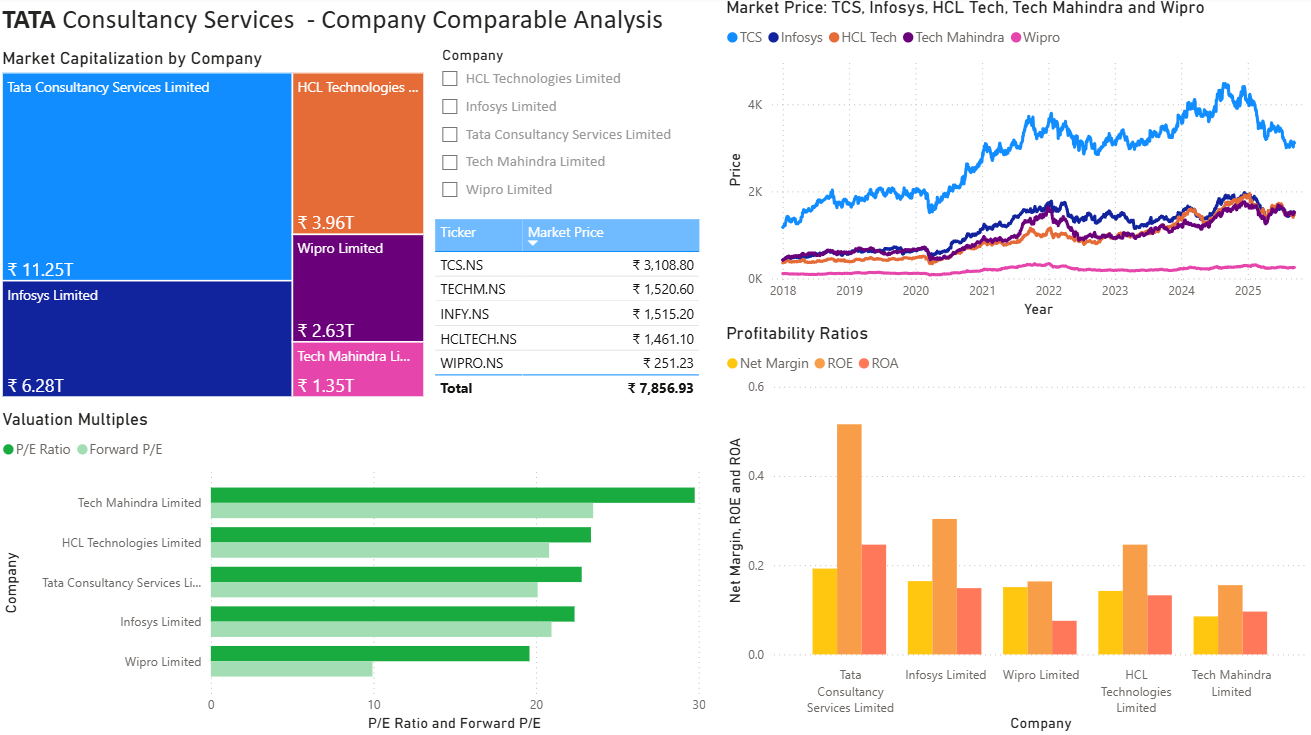

The dashboard page shown, as its layout file describes it:
{"tool":"powerbi","page":{"name":"Company Comparable Analysis","canvas":[1280,720],"ordinal":1},"visuals":[{"type":"treemap","fields":{"Values":["Sum(tcs_peers_valuation.Market Cap)"],"Group":["tcs_peers_valuation.Company"]},"box":[0,49.6,420.2,344.3],"z":0},{"type":"textbox","box":[0,0,694.5,49.6],"z":1000},{"type":"clusteredBarChart","title":"Valuation Multiples","fields":{"Y":["Sum(tcs_peers_valuation.P/E Ratio)","Sum(tcs_peers_valuation.Forward P/E)"],"Category":["tcs_peers_valuation.Company"]},"box":[0,400.7,694.5,319],"z":2000},{"type":"lineClusteredColumnComboChart","title":"Profitability Ratios","fields":{"Category":["tcs_peers_valuation.Company"],"Y":["Sum(tcs_peers_valuation.Net Margin)","Sum(tcs_peers_valuation.ROE)","Sum(tcs_peers_valuation.ROA)"]},"box":[704.2,317.1,575.8,402.7],"z":3000},{"type":"slicer","fields":{"Values":["tcs_peers_valuation.Company"]},"box":[420.2,42.8,274.3,168.3],"z":4001},{"type":"tableEx","fields":{"Values":["tcs_peers_valuation.Ticker","Sum(tcs_peers_valuation.Market Price)"]},"box":[420.2,211.1,284,189.7],"z":4002},{"type":"lineChart","title":"Market Price: TCS, Infosys, HCL Tech, Tech Mahindra and Wipro","fields":{"Y":["Sum(IT_Stocks_2018_2025.TCS)","Sum(IT_Stocks_2018_2025.Infosys)","Sum(IT_Stocks_2018_2025.HCL Tech)","Sum(IT_Stocks_2018_2025.Tech Mahindra)","Sum(IT_Stocks_2018_2025.Wipro)"],"Category":["IT_Stocks_2018_2025.Date.Variation.Date Hierarchy.Year","IT_Stocks_2018_2025.Date.Variation.Date Hierarchy.Quarter","IT_Stocks_2018_2025.Date.Variation.Date Hierarchy.Month","IT_Stocks_2018_2025.Date.Variation.Date Hierarchy.Day"]},"box":[704.2,0,575.8,317.1],"z":4003}]}

Visuals, with their boxes in screenshot pixels (x1, y1, x2, y2), scaled from the page's 1280x720 canvas onto the 1311x735 screenshot:
treemap - Sum(tcs_peers_valuation.Market Cap) x tcs_peers_valuation.Company: bbox=(0, 51, 430, 402)
textbox: bbox=(0, 0, 711, 51)
"Valuation Multiples" clusteredBarChart: bbox=(0, 409, 711, 734)
"Profitability Ratios" lineClusteredColumnComboChart: bbox=(721, 324, 1310, 734)
slicer - tcs_peers_valuation.Company: bbox=(430, 44, 711, 215)
tableEx - tcs_peers_valuation.Ticker x Sum(tcs_peers_valuation.Market Price): bbox=(430, 215, 721, 409)
"Market Price: TCS, Infosys, HCL Tech, Tech Mahindra and Wipro" lineChart: bbox=(721, 0, 1310, 324)
